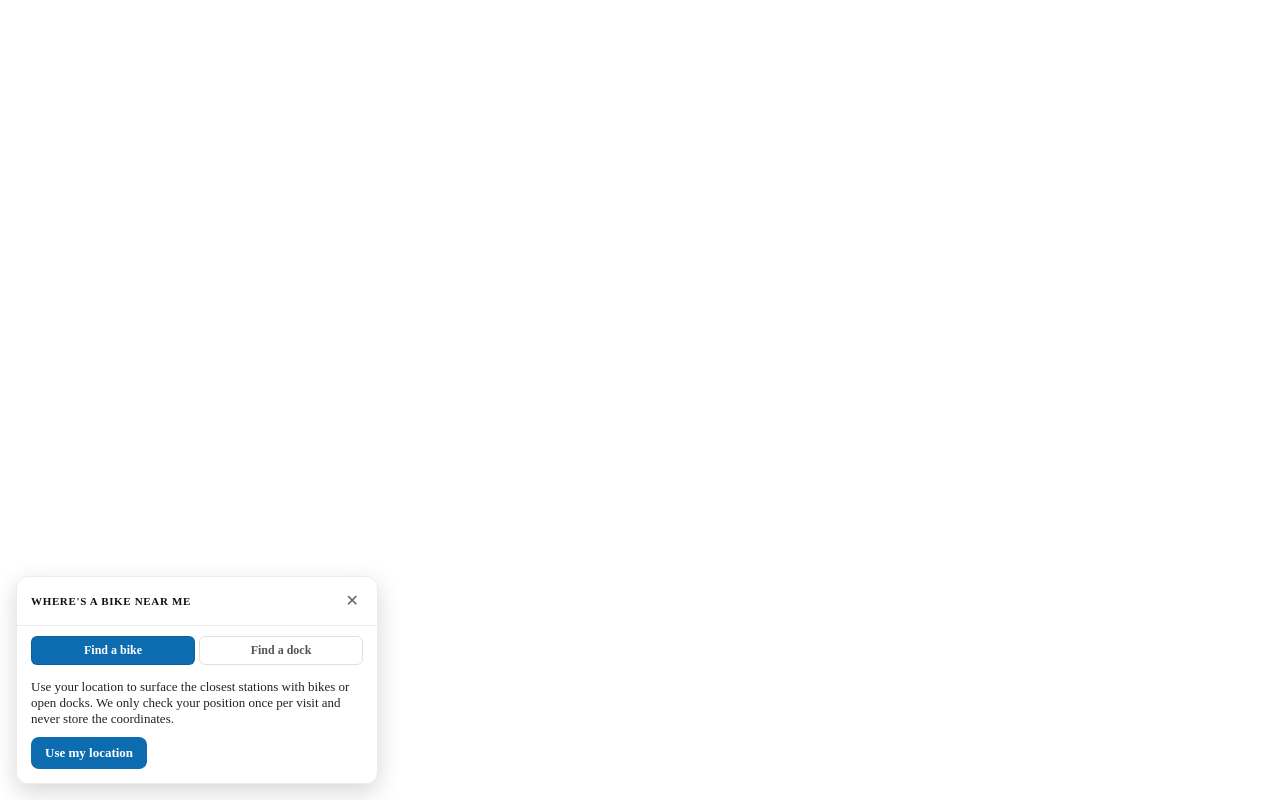
Test: NearbyStationsSheet › shows the unavailable state on a non-permission error
Click the button with test id "nearby-sheet-request" at (89, 753), box [31,737,147,769]
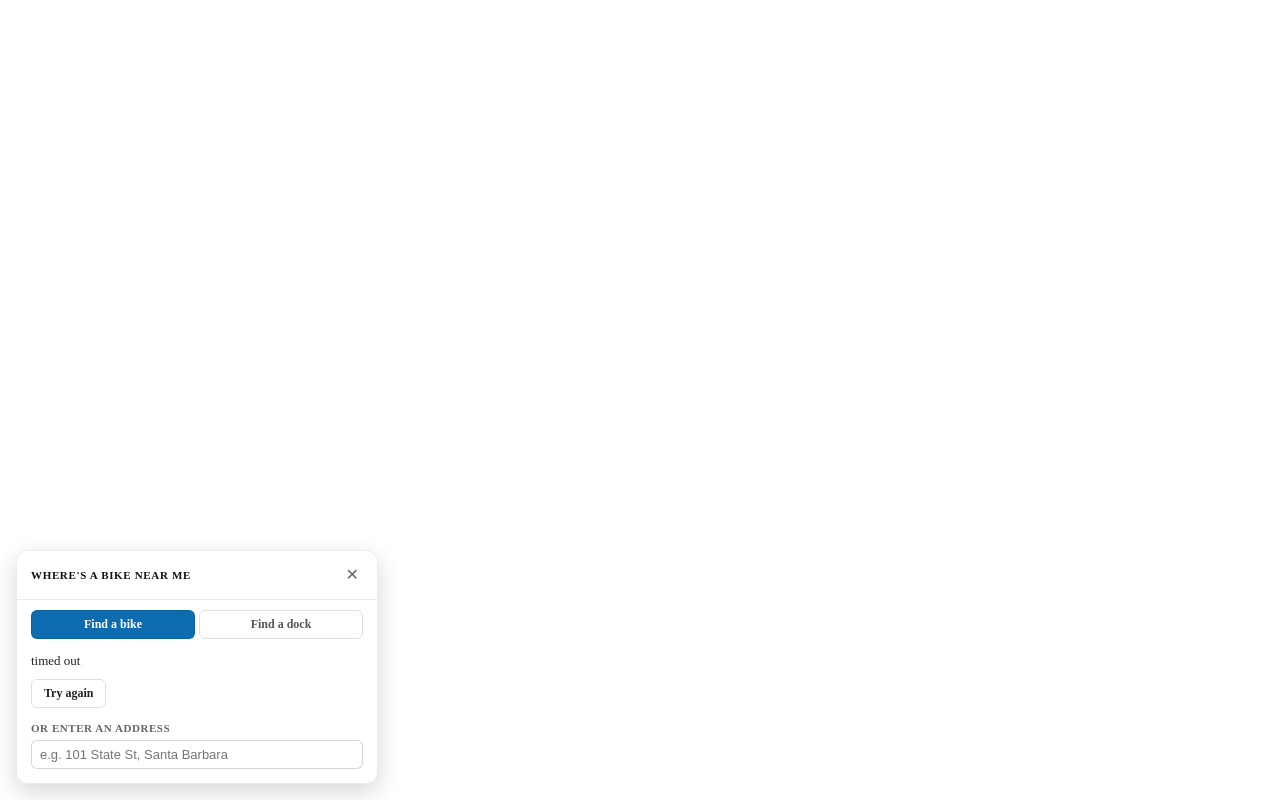
expect the element with test id "nearby-sheet-unavailable" is shown: met, box [31,653,363,769]
